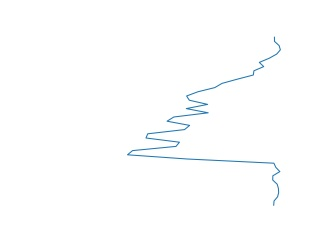proximalDeepseaFan: (122, 34, 287, 208)
